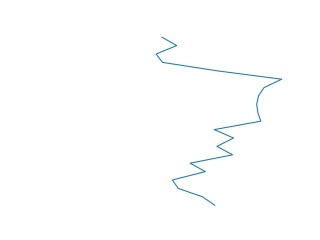floodPlain: (155, 34, 284, 208)
